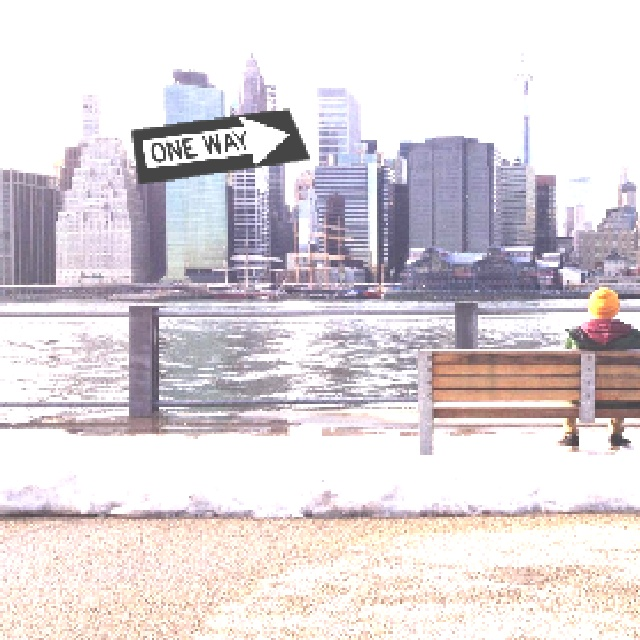ONE_WAY_ right: (128, 106, 310, 183)
